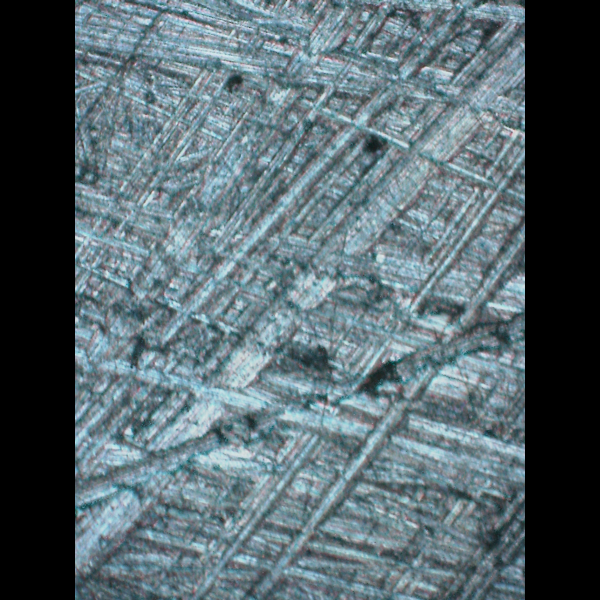d: (83, 97, 525, 599)
